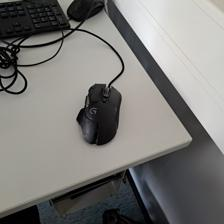mouse: (75, 83, 123, 146)
